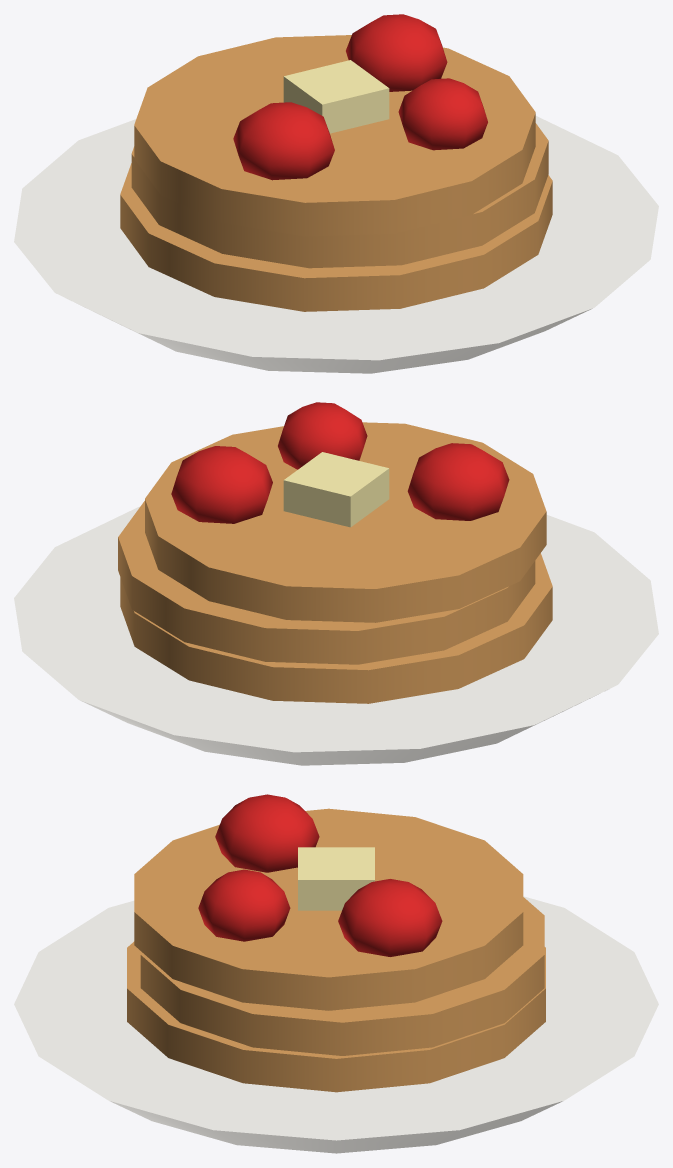
The model's file is dish_pankek.glb.
The picture shows the model from 3 angles, top to bottom: view 1: azimuth 30°, elevation 25°; view 2: azimuth 150°, elevation 25°; view 3: azimuth 270°, elevation 25°; orthographic projection.
Parts seen in each view (by area): view 1: DishNode_pankek; view 2: DishNode_pankek; view 3: DishNode_pankek.
Boxes of the visible parts, bbox=[...] form: DishNode_pankek: bbox=[14, 14, 658, 373]; DishNode_pankek: bbox=[14, 402, 658, 765]; DishNode_pankek: bbox=[14, 794, 658, 1153].
Bounding box in the file's own units: 0.42 × 0.144 × 0.42.
